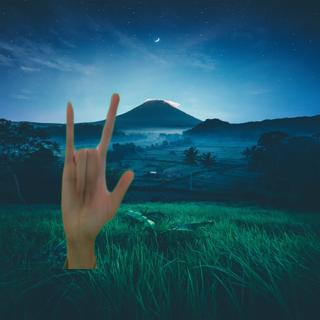ILY: (56, 90, 137, 246)
